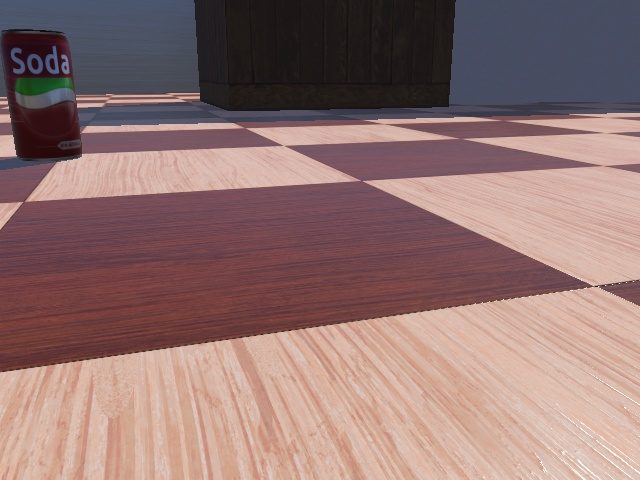lon_nuoc: (1, 28, 86, 159)
